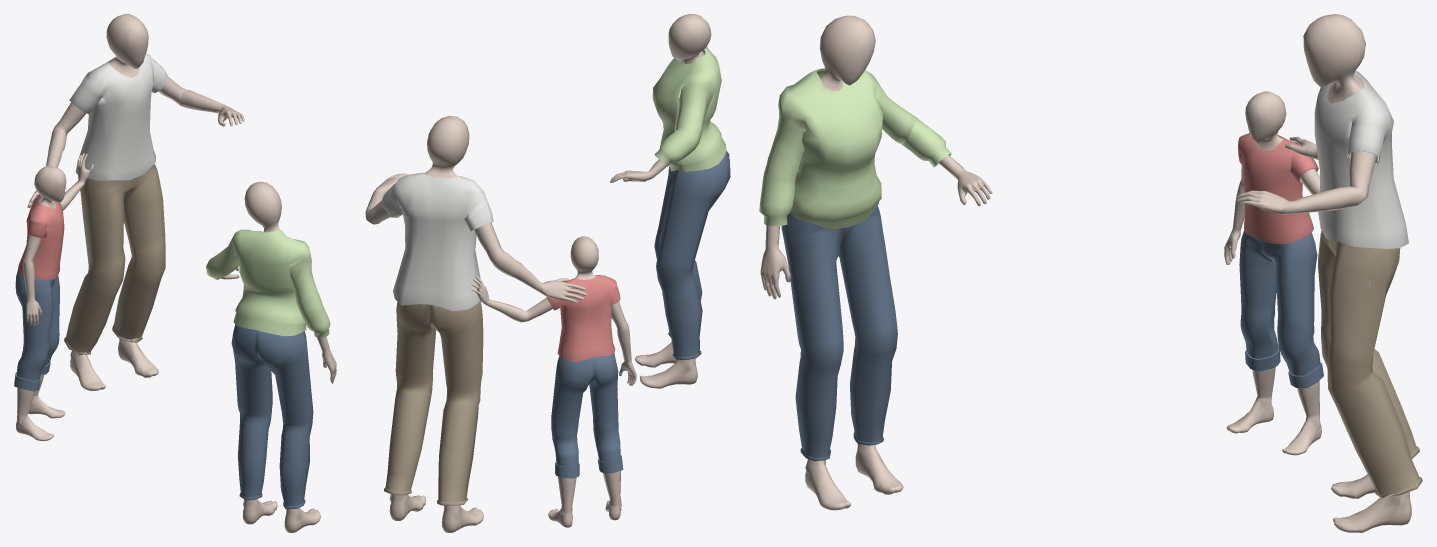
File: StandinFamily.fbx
3 renders of one model, left to right at view 1: azimuth 30°, elevation 25°; view 2: azimuth 150°, elevation 25°; view 3: azimuth 270°, elevation 25°, orthographic. The views are drawn at different scales.
Parts seen in each view (by area): view 1: FamilyStandIn; view 2: FamilyStandIn; view 3: FamilyStandIn.
Part boxes in pixels (box(x1,y1,x2,y2)): FamilyStandIn: box(14, 14, 336, 532); FamilyStandIn: box(365, 14, 730, 532); FamilyStandIn: box(759, 14, 1422, 532).
Size of the model in its own units: 2.47 by 3.88 by 4.69.
